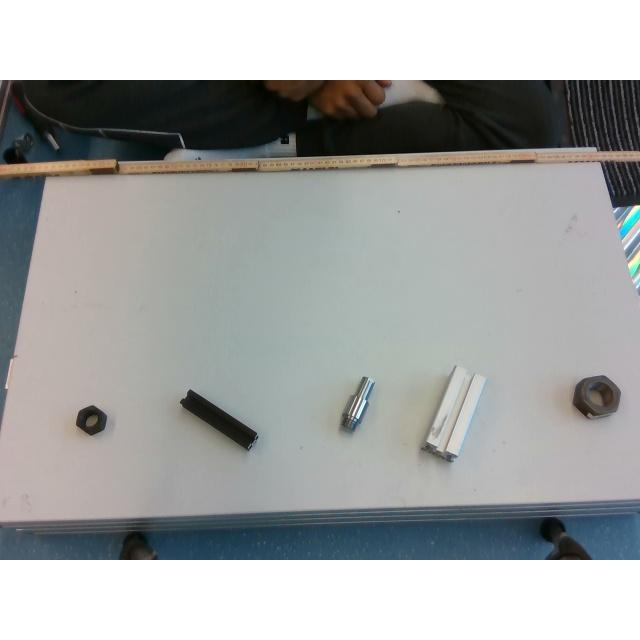Axis2: (341, 376, 375, 432)
F20_20_B: (180, 389, 258, 449)
M20: (76, 405, 108, 435)
M30: (572, 374, 620, 418)
S40_40_G: (422, 365, 486, 461)
